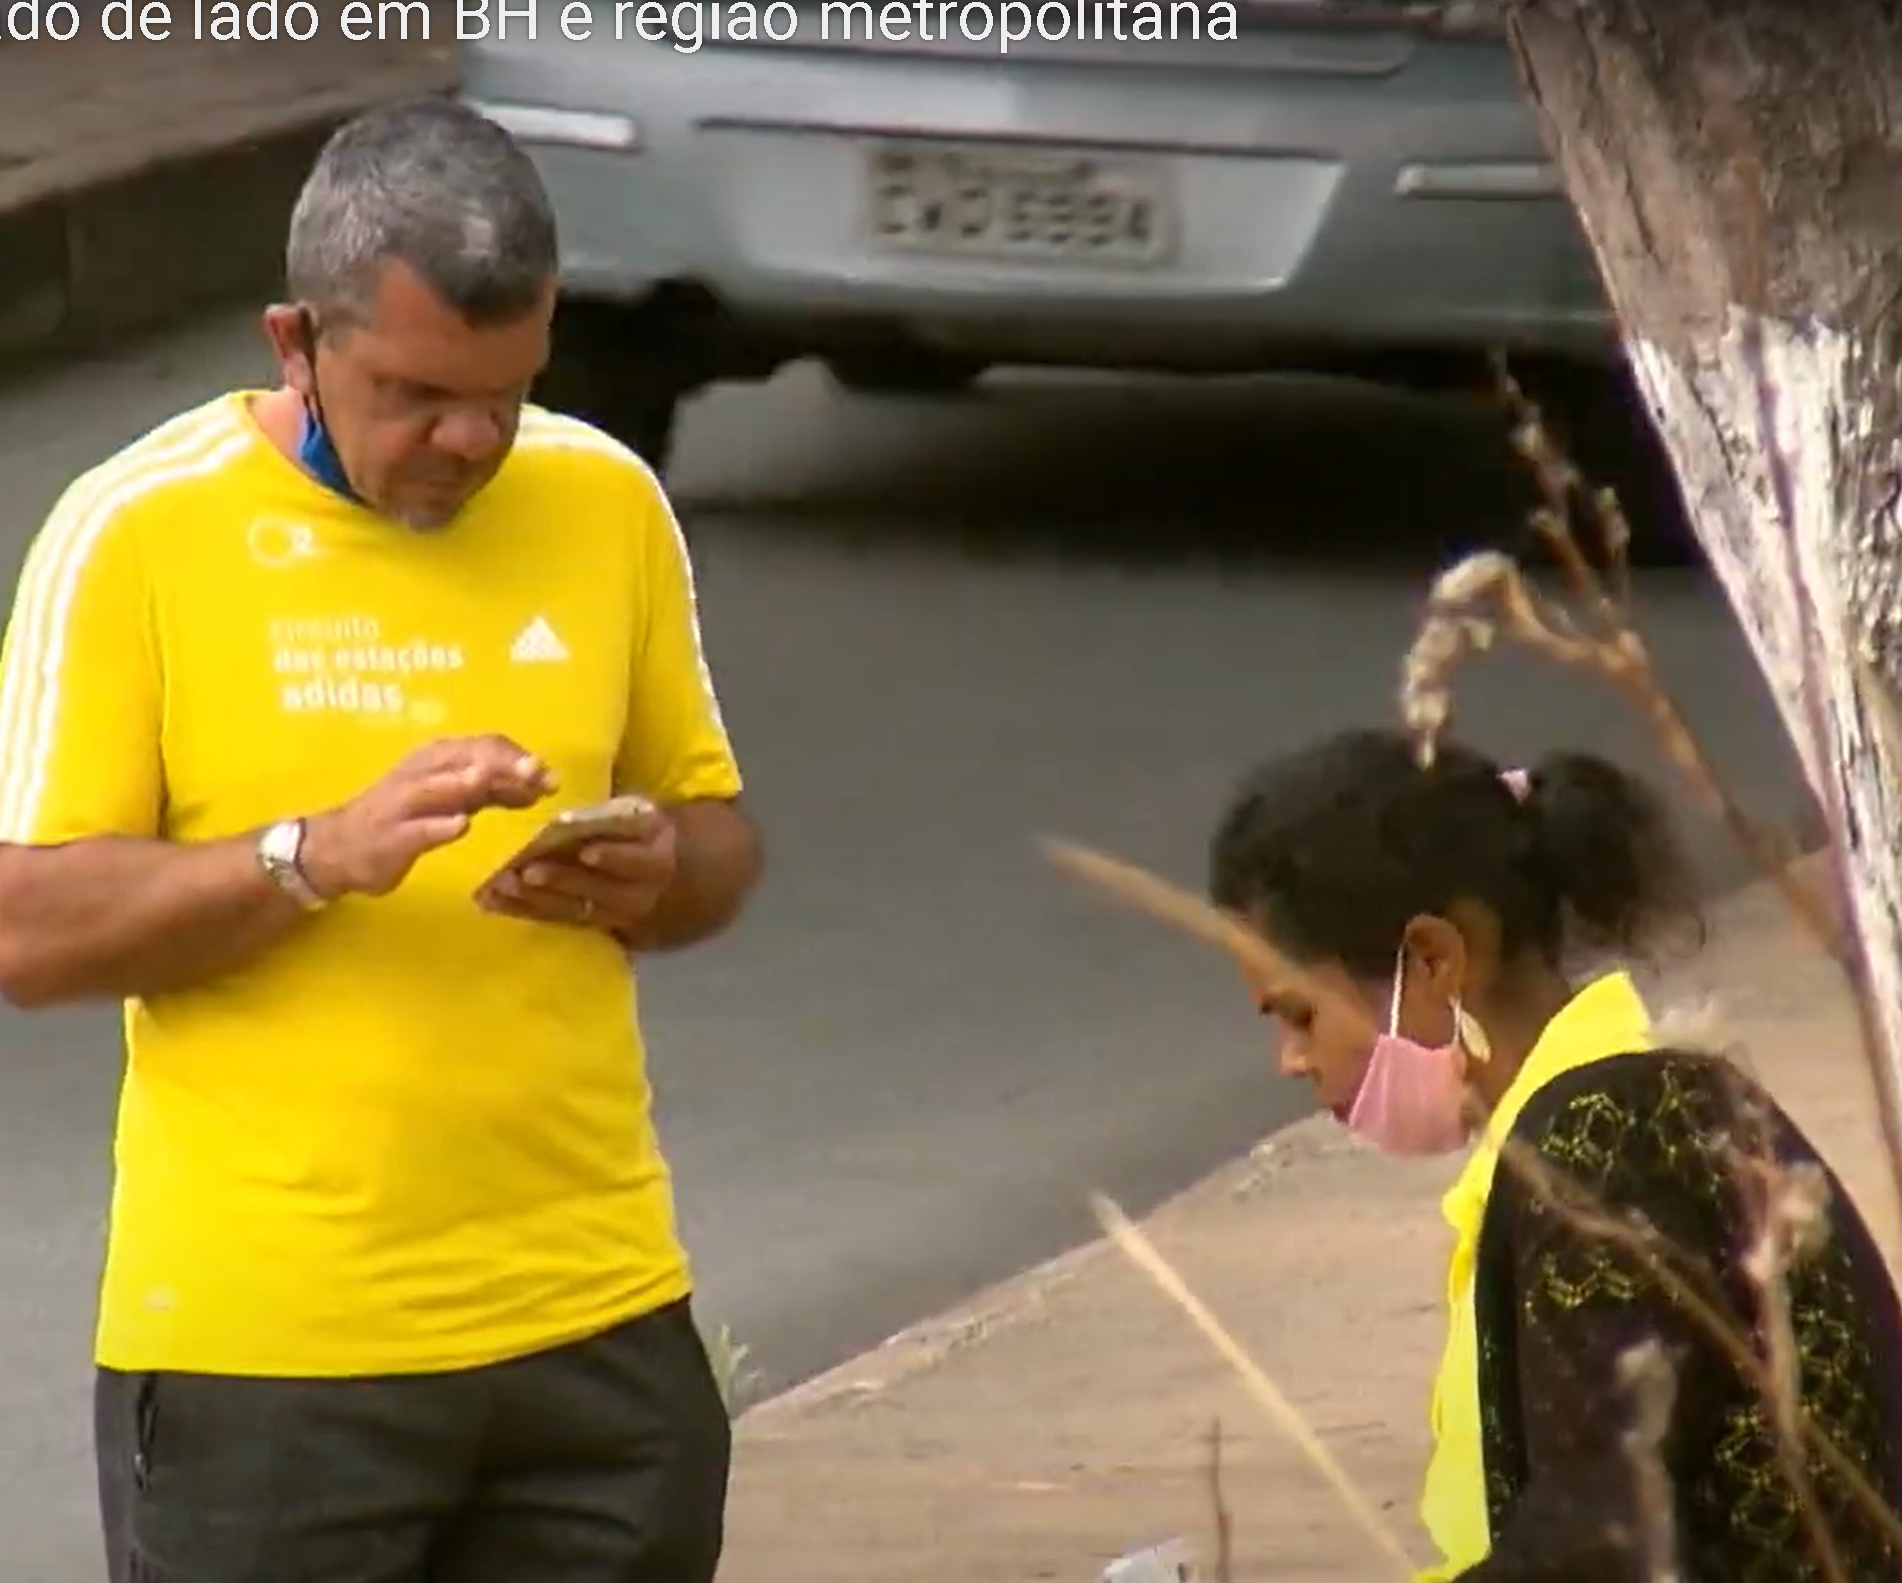mask_weared_incorrect: (255, 240, 559, 551), (1216, 878, 1503, 1174)
